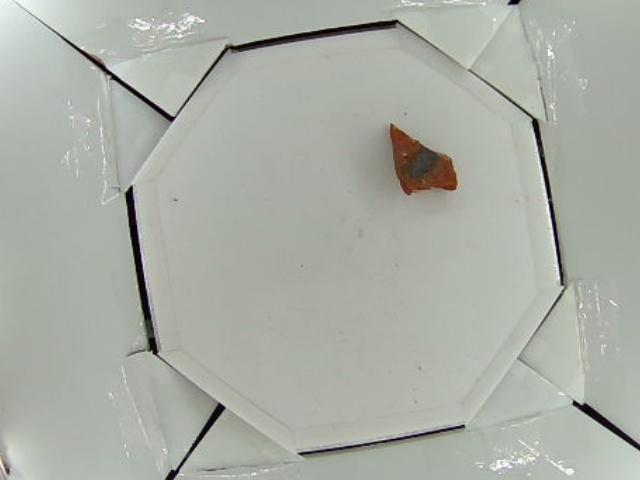Brisk: (389, 123, 457, 195)
